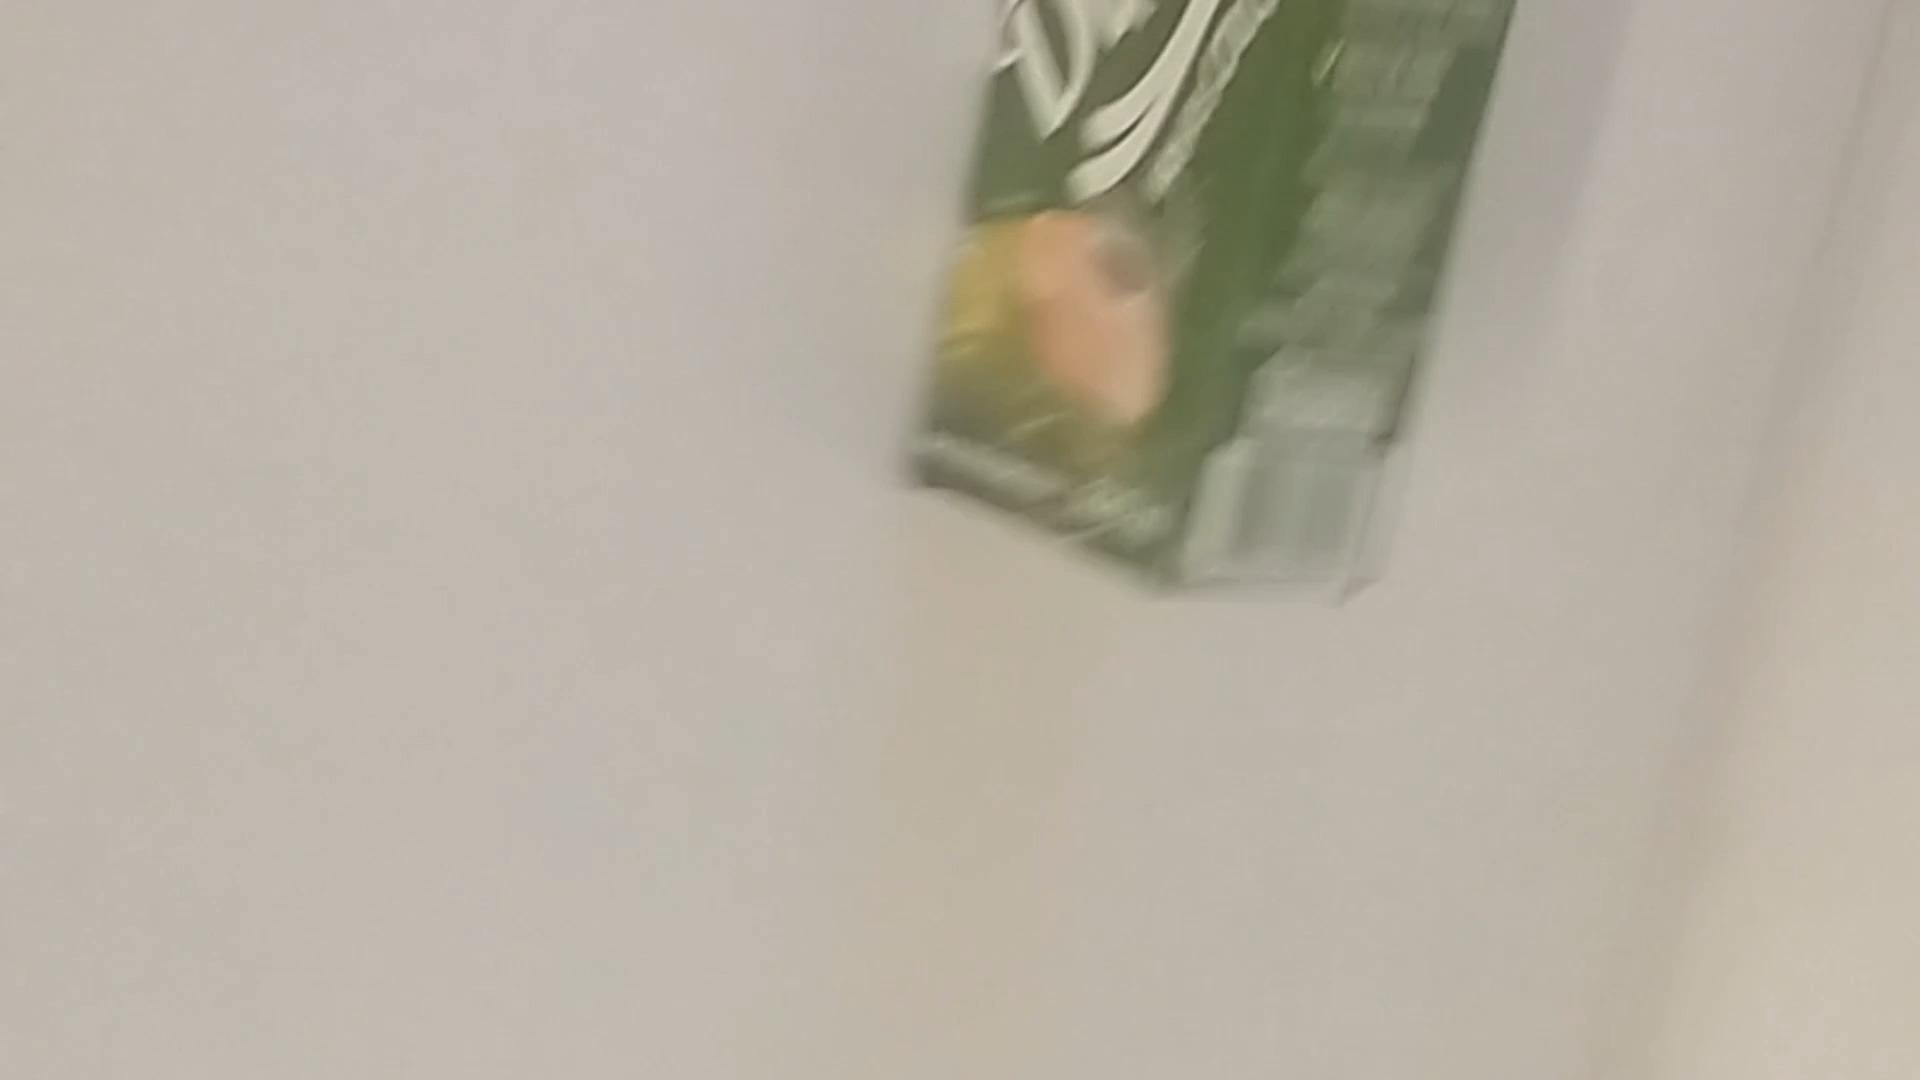coco: (907, 0, 1524, 605)
